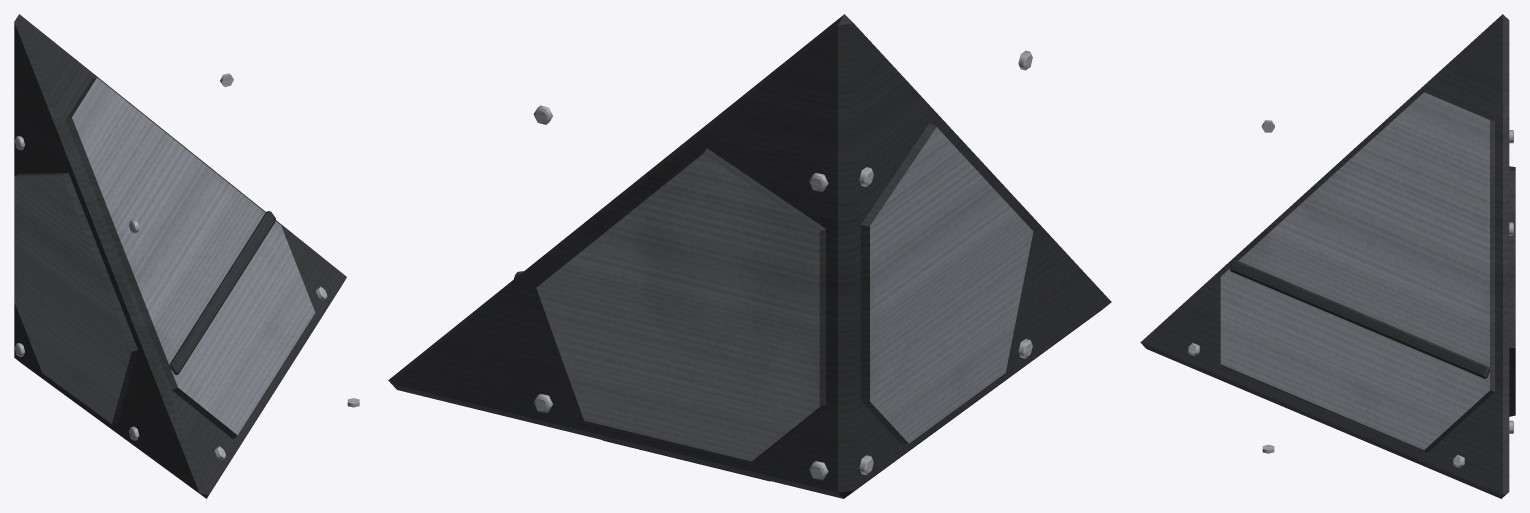
Rendered from R4B_Tetra.glb.
3 renders of one model, left to right at view 1: azimuth 30°, elevation 25°; view 2: azimuth 150°, elevation 25°; view 3: azimuth 270°, elevation 25°, orthographic. The views are drawn at different scales.
Visible parts, largest first — view 1: R4B_Tetra; view 2: R4B_Tetra; view 3: R4B_Tetra.
Part boxes in pixels (x1,y1,x2,y2): R4B_Tetra: (14, 14, 359, 498); R4B_Tetra: (388, 14, 1111, 498); R4B_Tetra: (1140, 14, 1515, 498).
Bounding box in the file's own units: 0.4738 × 0.4738 × 0.4738.
Materials: 3 (3 with a texture image).
